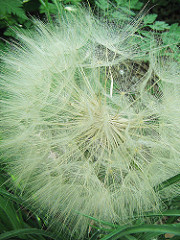dandelion: (6, 9, 179, 230)
